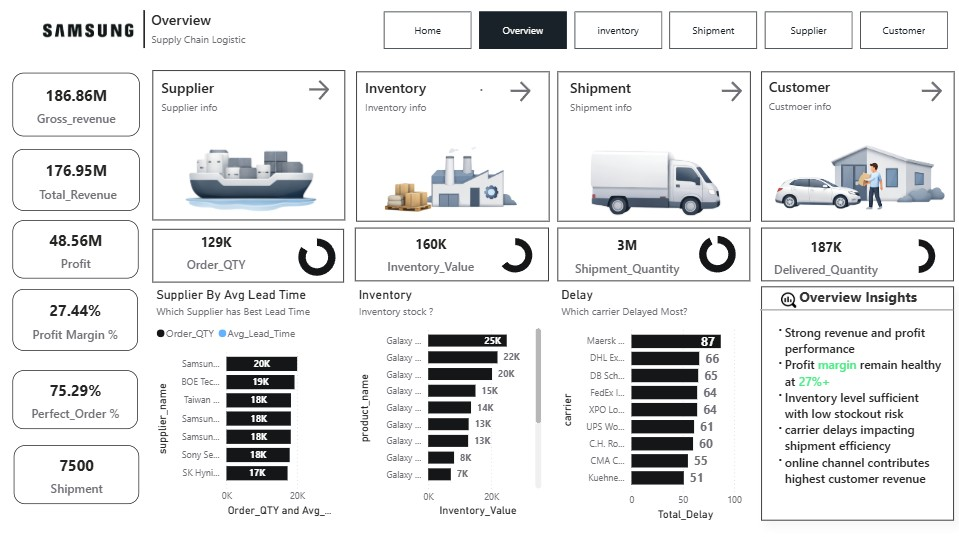

The page's visual inventory and layout, read from the dashboard file:
{"tool":"powerbi","page":{"name":"Overview","canvas":[1280,720],"ordinal":1},"visuals":[{"type":"shape","box":[1014.3,96,257.4,200.3],"z":0},{"type":"shape","box":[743,96,257.4,200.3],"z":1000},{"type":"image","box":[772.2,175.3,199,125.2],"z":2000},{"type":"shape","box":[474.4,96,257.4,200.3],"z":3000},{"type":"image","box":[1022.6,173.9,257.4,122.4],"z":4000},{"type":"actionButton","box":[637,103.3,10.2,35.7],"z":5000},{"type":"shape","title":"Inventory","box":[486.7,105.2,152.9,55],"z":6000},{"type":"shape","title":"Shipment","box":[759.4,105.2,154.1,55],"z":7000},{"type":"image","box":[492.5,154.4,203.1,161.4],"z":8000},{"type":"shape","title":"Overview","box":[201.7,15.3,235.1,71],"z":9000},{"type":"shape","box":[16.9,15.7,351.1,50.7],"z":10000},{"type":"image","box":[0,16.2,235,50],"z":11000},{"type":"card","fields":{"Values":["MeasuresTable.Profit"]},"box":[16.7,295,168.3,77.9],"z":12000},{"type":"actionButton","box":[397.5,103.8,50,36.2],"z":13000},{"type":"card","fields":{"Values":["MeasuresTable.Profit Margin %"]},"box":[16.7,386.8,167,82.1],"z":14000},{"type":"card","fields":{"Values":["MeasuresTable.Perfect_Order %"]},"box":[17.1,495.2,167.5,78.3],"z":15000},{"type":"shape","title":"Customer","box":[1024.7,103.9,152.9,56.3],"z":16000},{"type":"card","fields":{"Values":["MeasuresTable.1 Total_Revenue"]},"box":[16.7,200.3,169.7,82.1],"z":17000},{"type":"card","fields":{"Values":["Sum(fact_sales.gross_revenue)"]},"box":[16.7,98.8,169.7,84.9],"z":18000},{"type":"shape","box":[203,306.9,255.6,70.9],"z":19000},{"type":"shape","box":[473.2,305.7,258,70.9],"z":20000},{"type":"shape","box":[743.5,305.7,256.8,70.9],"z":21000},{"type":"shape","box":[1015,305.7,256.8,70.9],"z":22000},{"type":"card","fields":{"Values":["MeasuresTable.Order_QTY"]},"box":[239.7,302,96.6,69.7],"z":23000},{"type":"card","fields":{"Values":["MeasuresTable.1 Inventory_Value"]},"box":[506.3,305.7,135.7,69.7],"z":24000},{"type":"card","fields":{"Values":["MeasuresTable.Total_Shipment_Quantity"]},"box":[760.6,306.9,152.9,69.7],"z":25000},{"type":"card","fields":{"Values":["MeasuresTable.Total_Delivered_Quantity"]},"box":[1024.7,308.2,152.9,69.7],"z":26000},{"type":"barChart","title":"Supplier By Avg Lead Time","fields":{"Y":["MeasuresTable.Order_QTY","MeasuresTable.Avg_Lead_Time"],"Category":["dim_supplier.supplier_name"]},"box":[202.9,382.6,255.1,311.6],"z":27000},{"type":"barChart","title":"Inventory","fields":{"Y":["MeasuresTable.Inventory_Value"],"Category":["dim_product.product_name"]},"box":[473.9,382.6,253.6,311.6],"z":28000},{"type":"donutChart","fields":{"Y":["MeasuresTable.Order_QTY","MeasuresTable.Defect_Rate"]},"box":[386.4,308.2,72.1,72.1],"z":29000},{"type":"donutChart","fields":{"Y":["MeasuresTable.Inventory_Value","MeasuresTable.Safety_Stock"]},"box":[646.9,308.2,80.7,67.3],"z":30000},{"type":"shape","box":[203.3,95,256.7,200],"z":30500},{"type":"donutChart","fields":{"Y":["MeasuresTable.Total_Shipment","MeasuresTable.Total_Delay"]},"box":[913.5,305.7,86.8,70.9],"z":31000},{"type":"donutChart","fields":{"Y":["MeasuresTable.Total_Delivered_Quantity","MeasuresTable.Total_QTY_Delay"]},"box":[1177.6,310.6,92.9,66],"z":32000},{"type":"pageNavigator","box":[511.1,17.1,753.3,50.1],"z":33000},{"type":"actionButton","box":[675,105.2,40.4,36.7],"z":34000},{"type":"actionButton","box":[957.5,105.2,40.4,36.7],"z":35000},{"type":"actionButton","box":[1224.1,105.2,40.4,36.7],"z":36000},{"type":"card","fields":{"Values":["MeasuresTable.Total_Shipment"]},"box":[18.3,594.3,167.5,78.3],"z":37000},{"type":"shape","title":"Supplier","box":[215,105,153.8,55],"z":38000},{"type":"actionButton","box":[406.2,103.8,91.2,36.2],"z":39000},{"type":"image","box":[228.8,173.8,203.8,116.2],"z":40000},{"type":"barChart","title":"Delay ","fields":{"Category":["fact_shipment.carrier"],"Y":["MeasuresTable.Total_Delay"]},"box":[743.5,382.6,258,315.9],"z":41000},{"type":"shape","title":"Overview Insights","box":[1015,383.3,256.7,311.7],"z":42000},{"type":"image","box":[1040,386.7,23.3,30],"z":43000},{"type":"shape","box":[1013.3,402.2,257.8,25.6],"z":44000},{"type":"textbox","box":[1023.3,428.3,238.3,253.3],"z":45000}]}

Visuals, with their boxes in screenshot pixels (x1, y1, x2, y2), scaled from the page's 1280x720 canvas onto the 959x537 screenshot:
shape: 760, 72, 953, 221
shape: 557, 72, 750, 221
image: 579, 131, 728, 224
shape: 355, 72, 548, 221
image: 766, 130, 958, 221
actionButton: 477, 77, 485, 104
"Inventory" shape: 365, 78, 479, 119
"Shipment" shape: 569, 78, 684, 119
image: 369, 115, 521, 236
"Overview" shape: 151, 11, 327, 64
shape: 13, 12, 276, 50
image: 0, 12, 176, 49
card - MeasuresTable.Profit: 13, 220, 139, 278
actionButton: 298, 77, 335, 104
card - MeasuresTable.Profit Margin %: 13, 288, 138, 350
card - MeasuresTable.Perfect_Order %: 13, 369, 138, 428
"Customer" shape: 768, 77, 882, 119
card - MeasuresTable.1 Total_Revenue: 13, 149, 140, 211
card - Sum(fact_sales.gross_revenue): 13, 74, 140, 137
shape: 152, 229, 344, 282
shape: 355, 228, 548, 281
shape: 557, 228, 749, 281
shape: 760, 228, 953, 281
card - MeasuresTable.Order_QTY: 180, 225, 252, 277
card - MeasuresTable.1 Inventory_Value: 379, 228, 481, 280
card - MeasuresTable.Total_Shipment_Quantity: 570, 229, 684, 281
card - MeasuresTable.Total_Delivered_Quantity: 768, 230, 882, 282
"Supplier By Avg Lead Time" barChart: 152, 285, 343, 518
"Inventory" barChart: 355, 285, 545, 518
donutChart - MeasuresTable.Order_QTY x MeasuresTable.Defect_Rate: 289, 230, 344, 284
donutChart - MeasuresTable.Inventory_Value x MeasuresTable.Safety_Stock: 485, 230, 545, 280
shape: 152, 71, 345, 220
donutChart - MeasuresTable.Total_Shipment x MeasuresTable.Total_Delay: 684, 228, 749, 281
donutChart - MeasuresTable.Total_Delivered_Quantity x MeasuresTable.Total_QTY_Delay: 882, 232, 952, 281
pageNavigator: 383, 13, 947, 50
actionButton: 506, 78, 536, 106
actionButton: 717, 78, 748, 106
actionButton: 917, 78, 947, 106
card - MeasuresTable.Total_Shipment: 14, 443, 139, 502
"Supplier" shape: 161, 78, 276, 119
actionButton: 304, 77, 373, 104
image: 171, 130, 324, 216
"Delay " barChart: 557, 285, 750, 521
"Overview Insights" shape: 760, 286, 953, 518
image: 779, 288, 797, 311
shape: 759, 300, 952, 319
textbox: 767, 319, 945, 508
